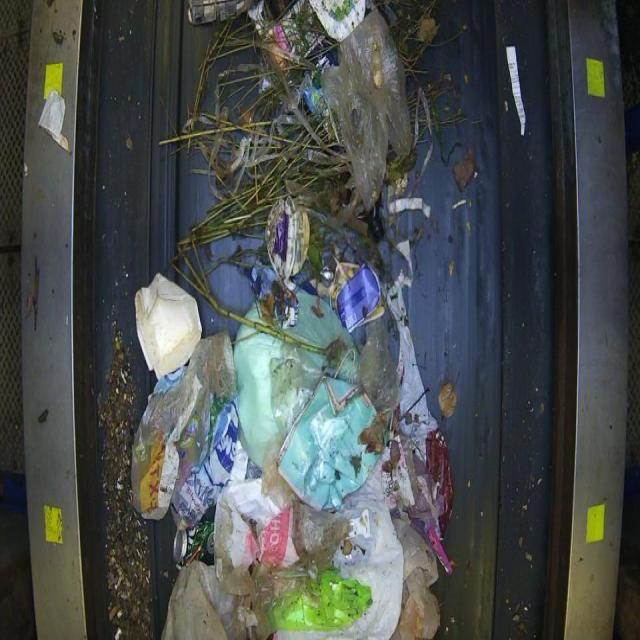cups: (133, 272, 202, 379)
trashbin: (15, 0, 632, 639)
